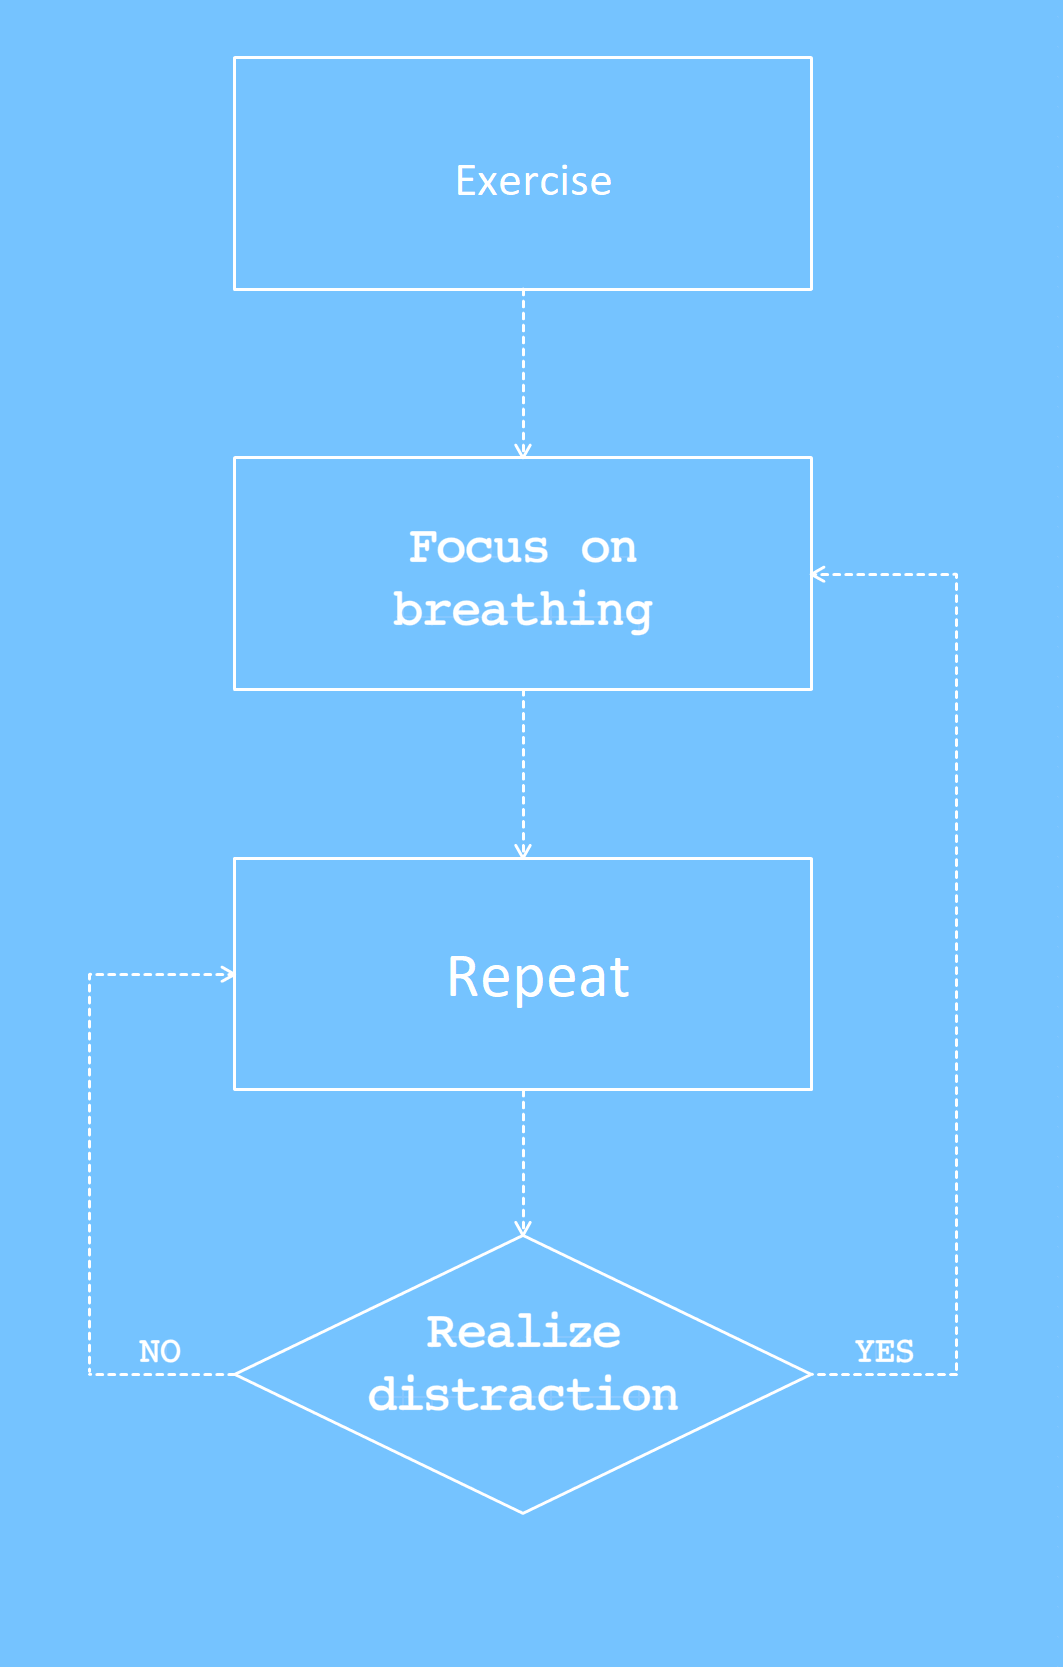arrow: (802, 561, 966, 1394), (70, 956, 243, 1392), (507, 284, 545, 467), (502, 1079, 543, 1248), (504, 680, 539, 858)
process: (225, 1228, 819, 1518), (219, 448, 827, 707), (227, 46, 825, 299), (225, 846, 825, 1097)
text: (366, 1307, 682, 1420), (384, 522, 658, 648), (440, 951, 637, 1015), (448, 156, 620, 205), (846, 1326, 918, 1371), (132, 1328, 181, 1371)
